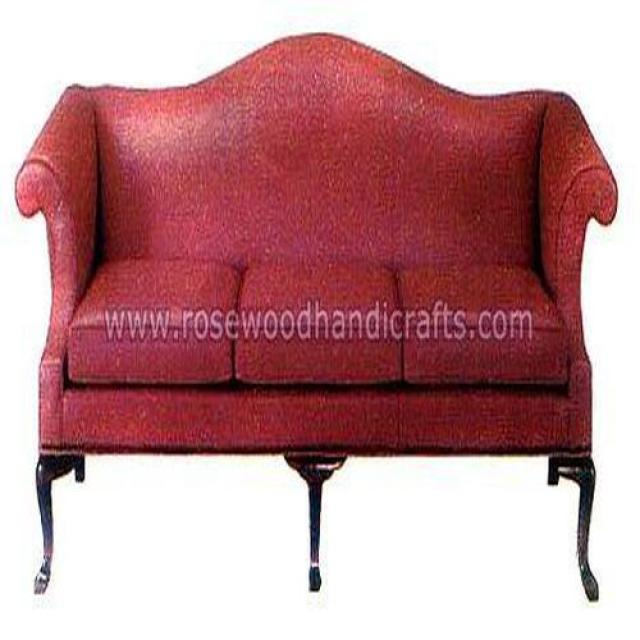sofa: (14, 33, 620, 607)
